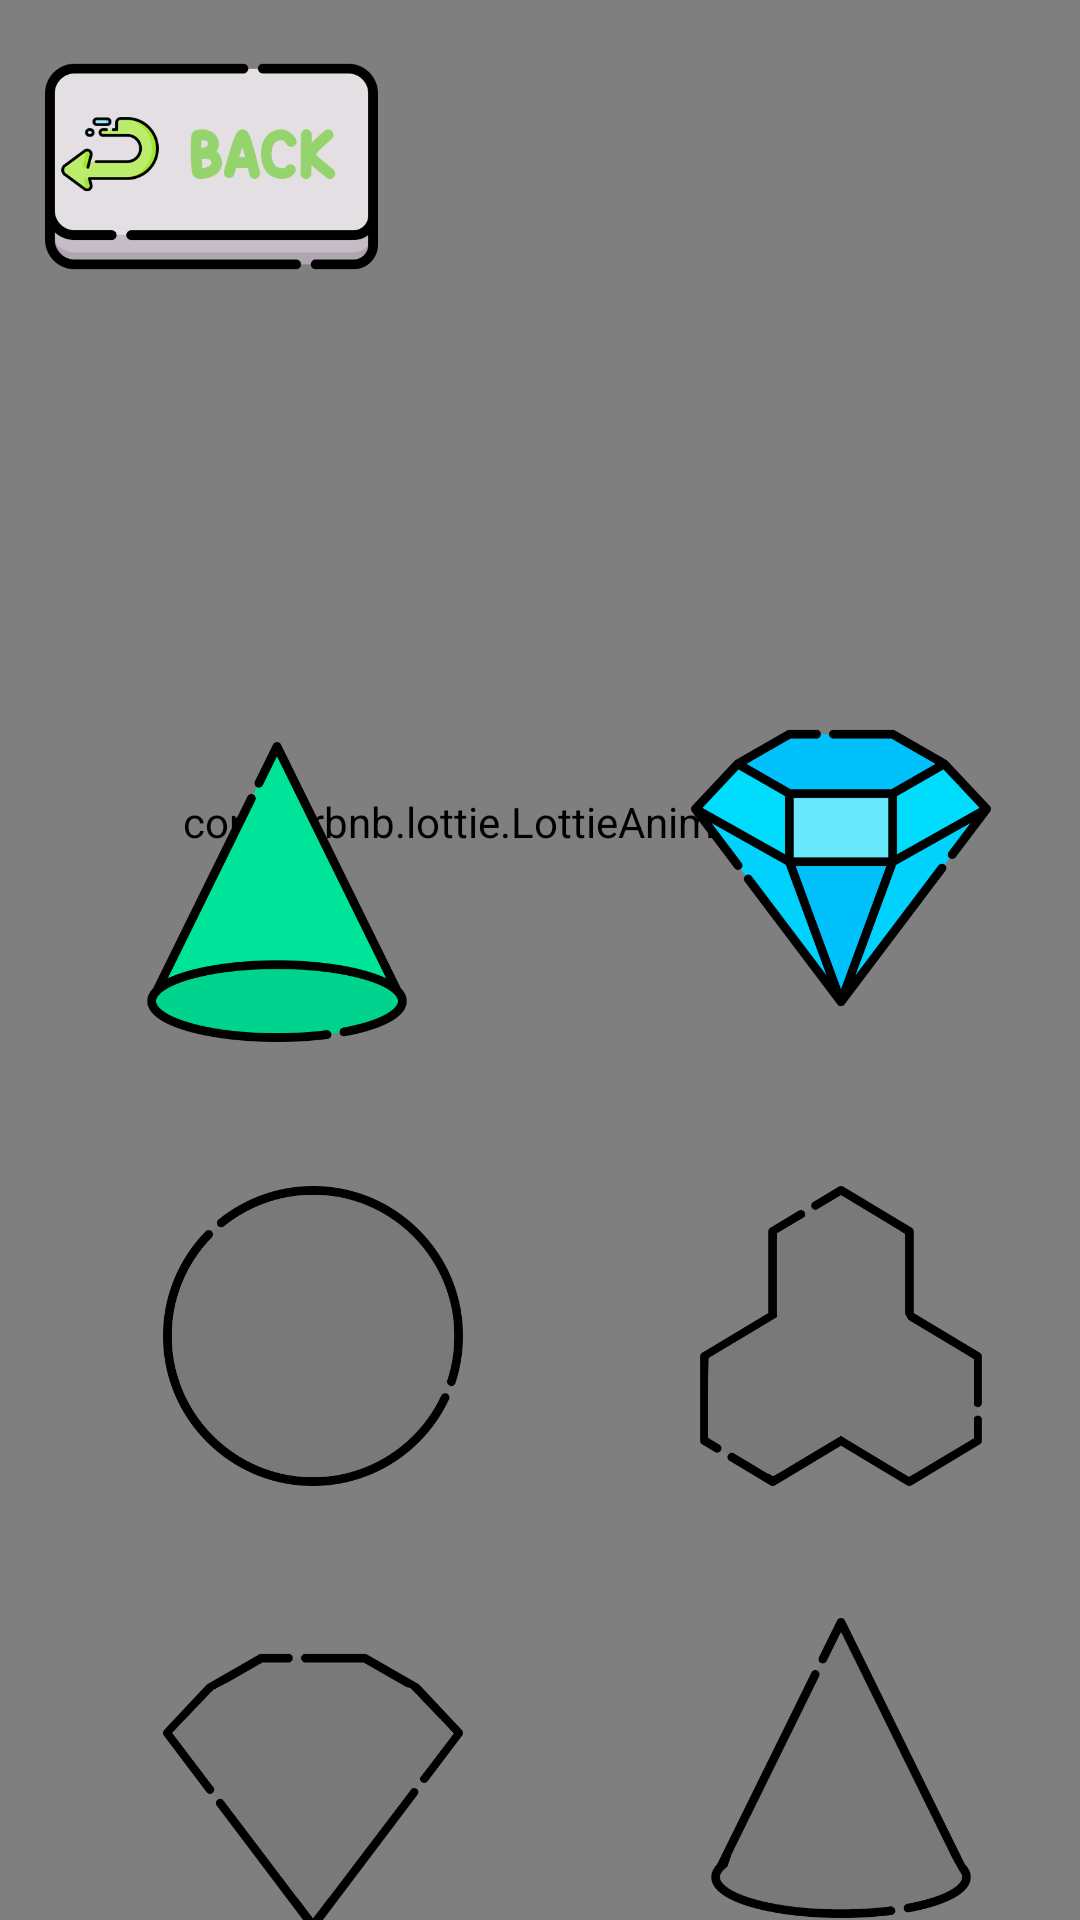

Icons on this 1080*1920 Android screen, each with the point to tap as (x=x, y=y):
circle: (x=313, y=1336)
cone: (x=280, y=892), (x=841, y=1768)
cubes: (x=841, y=1336)
diamond: (x=841, y=868), (x=313, y=1787)
